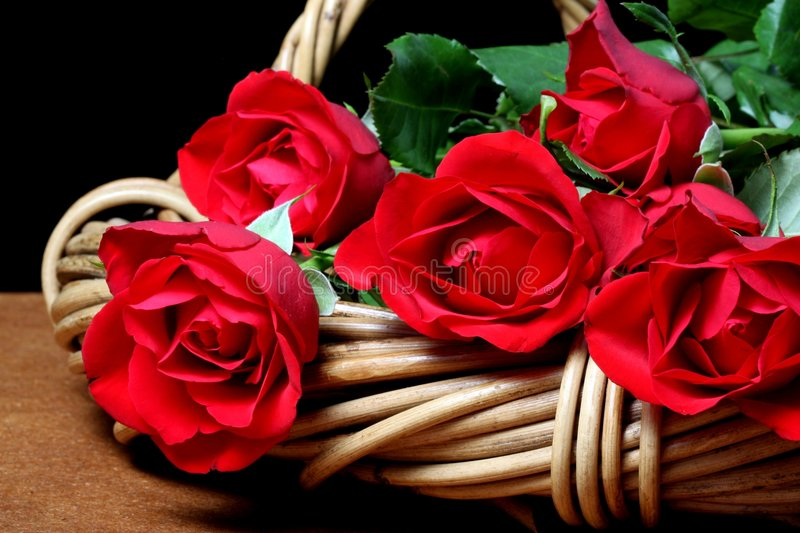RedRose: (79, 223, 303, 454), (369, 144, 610, 344), (611, 206, 800, 408), (185, 66, 370, 237), (554, 14, 718, 182)
